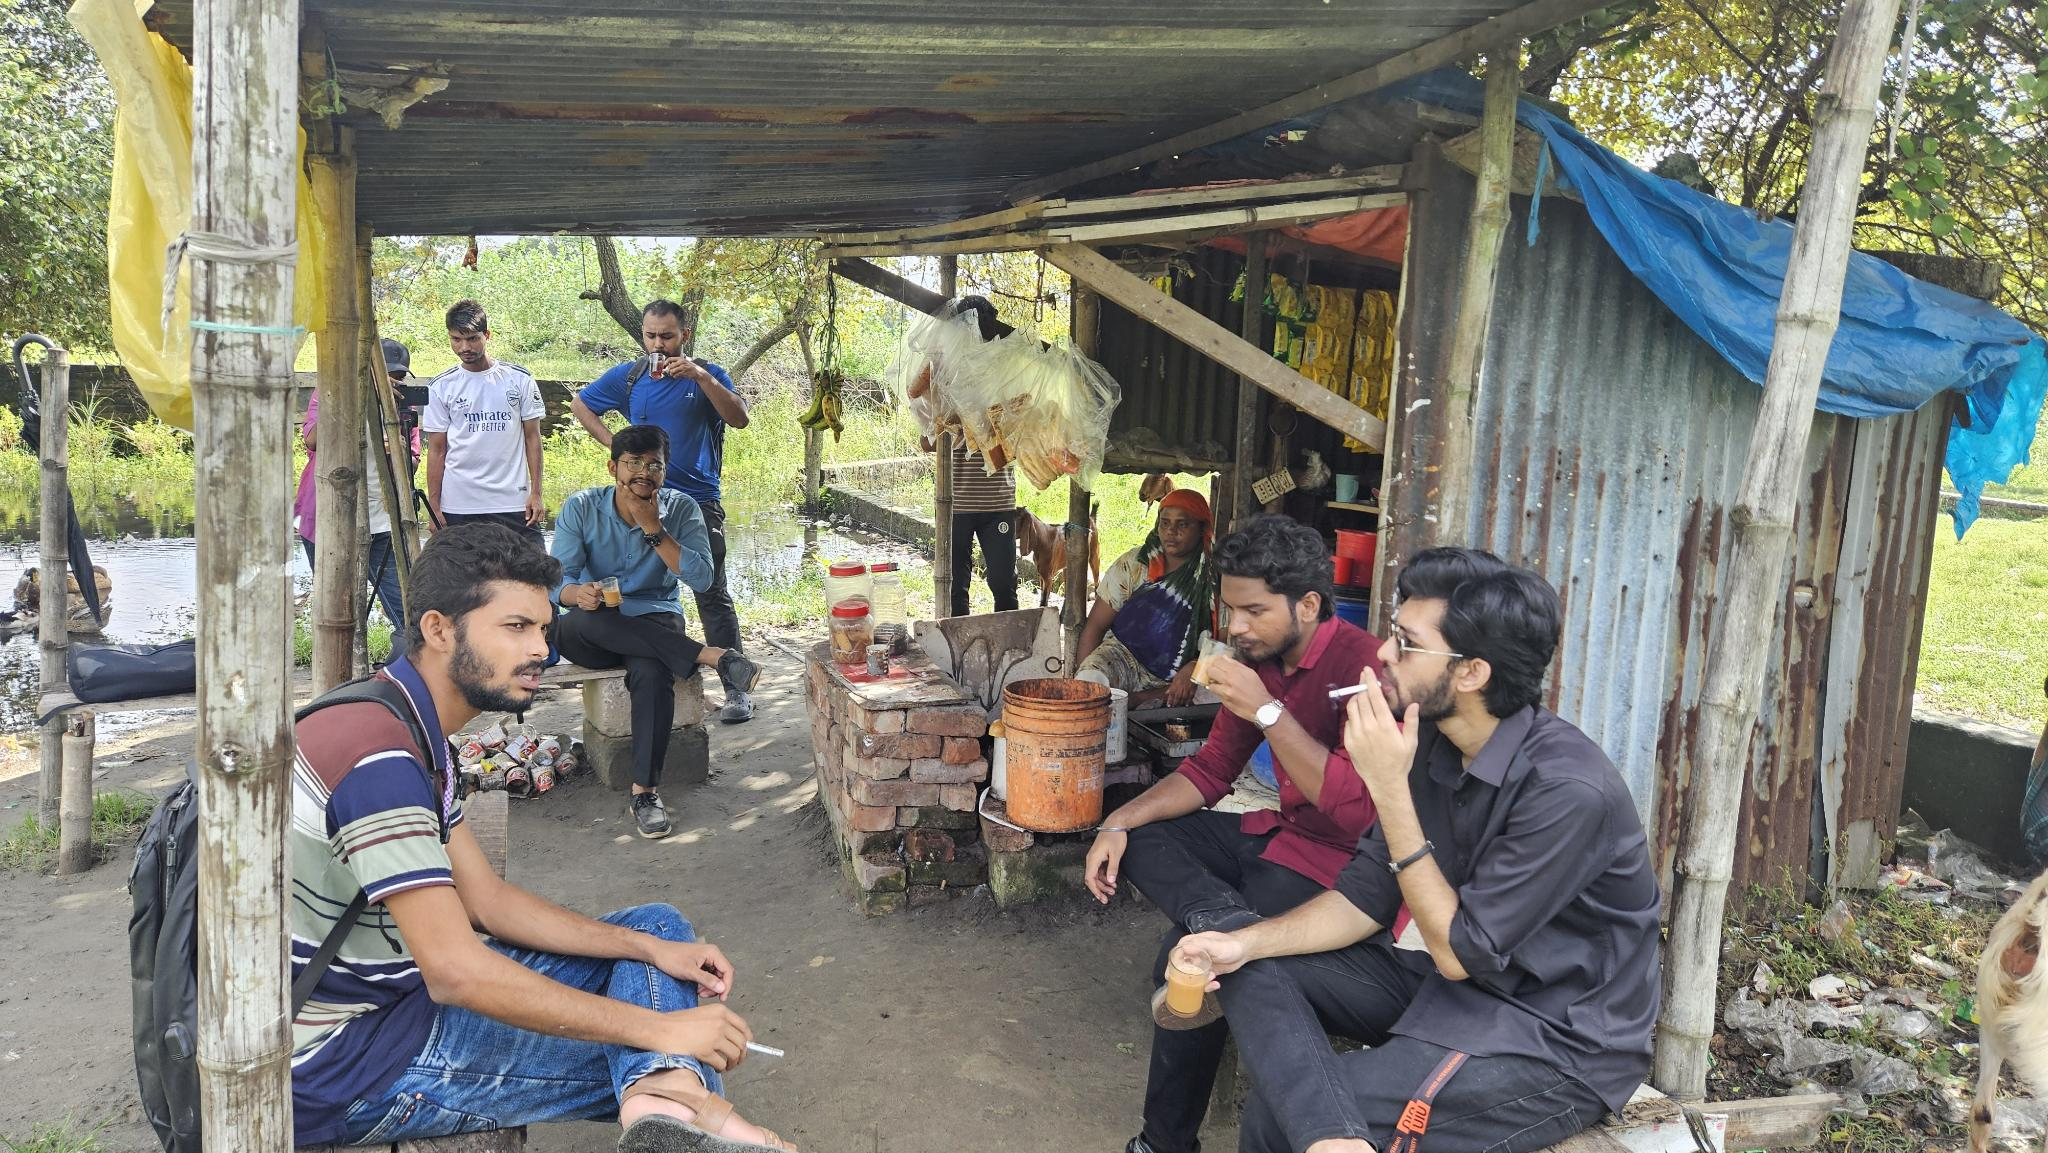cigarette: (740, 1036, 788, 1062), (1326, 682, 1369, 700)
nonSmoker: (1083, 519, 1383, 928), (550, 427, 758, 835), (570, 299, 758, 723), (422, 297, 546, 555), (1082, 489, 1215, 703)
smoker: (288, 519, 803, 1153), (1182, 551, 1663, 1153)
